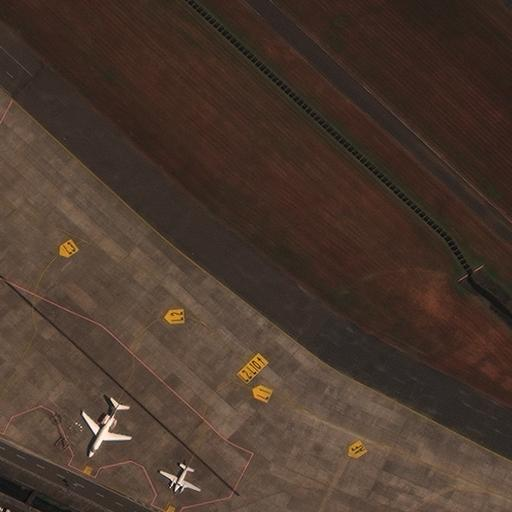Medium Civil Transport: (81, 403, 130, 457), (160, 464, 199, 492)
